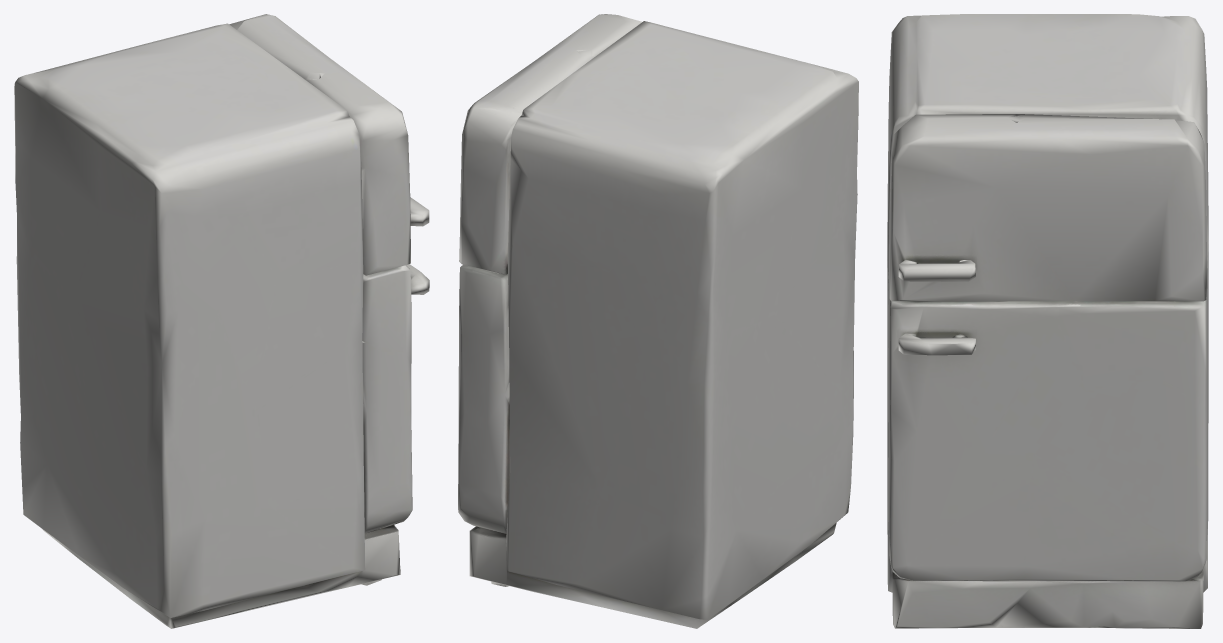
File: fridge.fbx
3 renders of one model, left to right at view 1: azimuth 30°, elevation 25°; view 2: azimuth 150°, elevation 25°; view 3: azimuth 270°, elevation 25°, orthographic. The views are drawn at different scales.
Visible parts, largest first — view 1: tripo_node_1a7f0bad; view 2: tripo_node_1a7f0bad; view 3: tripo_node_1a7f0bad.
Boxes of the visible parts, <box> form: tripo_node_1a7f0bad: <box>14,14,429,628</box>; tripo_node_1a7f0bad: <box>458,14,858,628</box>; tripo_node_1a7f0bad: <box>887,14,1208,628</box>.
Bounding box in the file's own units: 0.6086 × 0.9795 × 0.5663.
